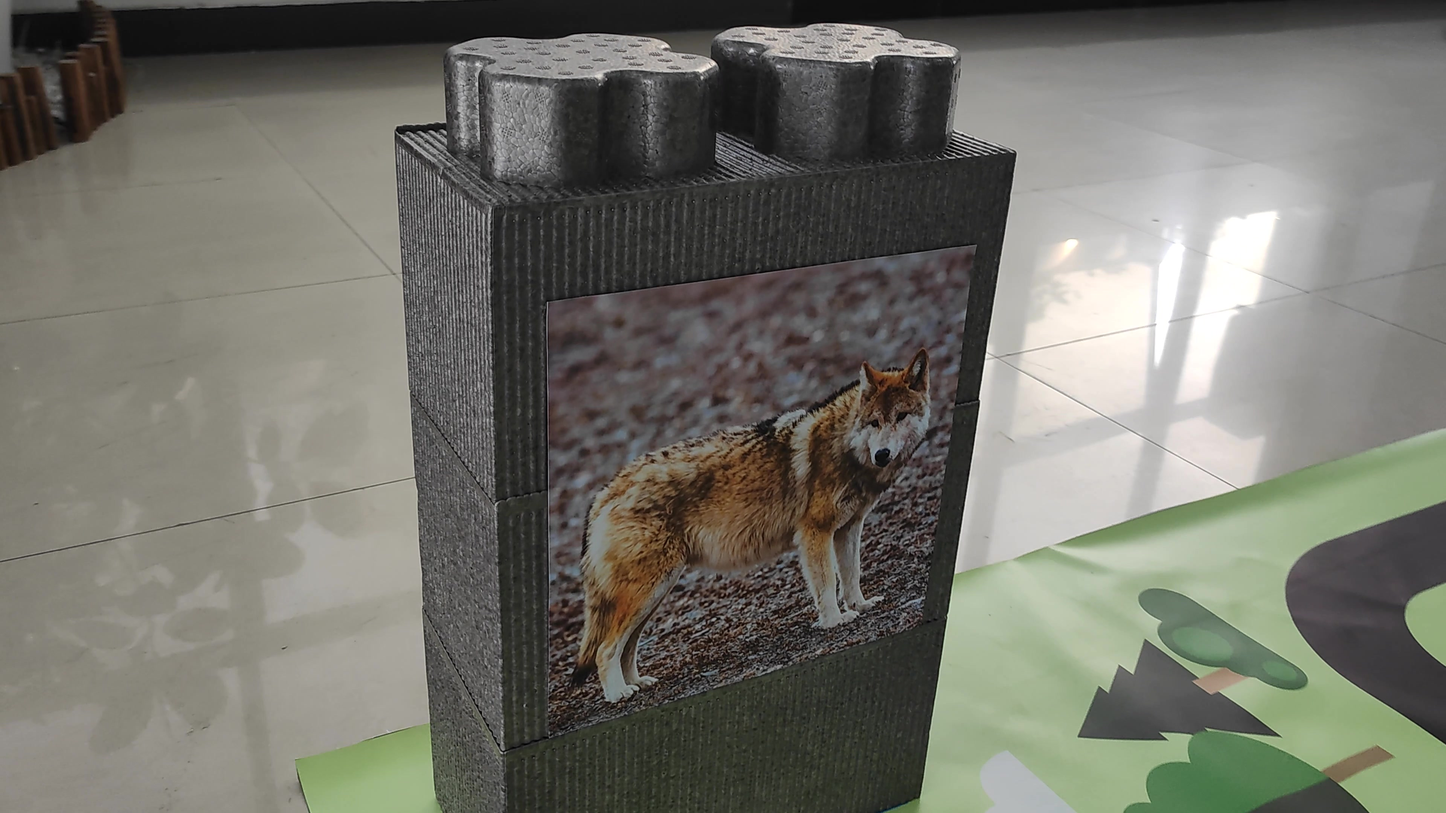wolf: (569, 306, 938, 690)
